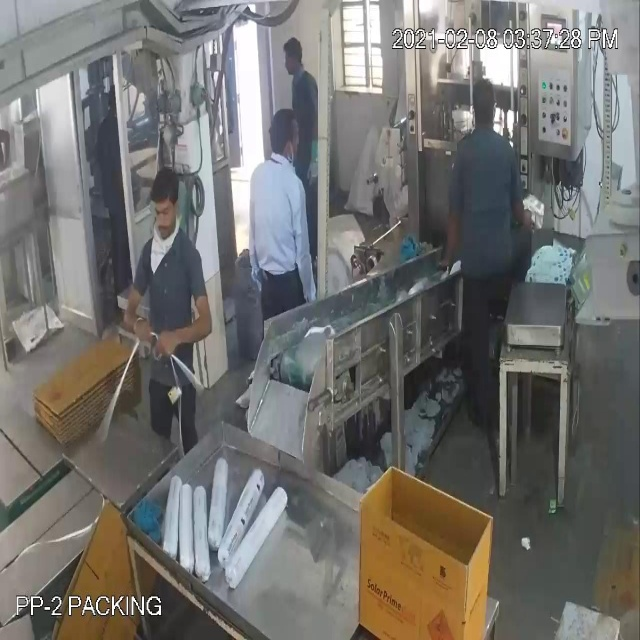Sin_guantes: (156, 288, 223, 373), (112, 276, 168, 362)
